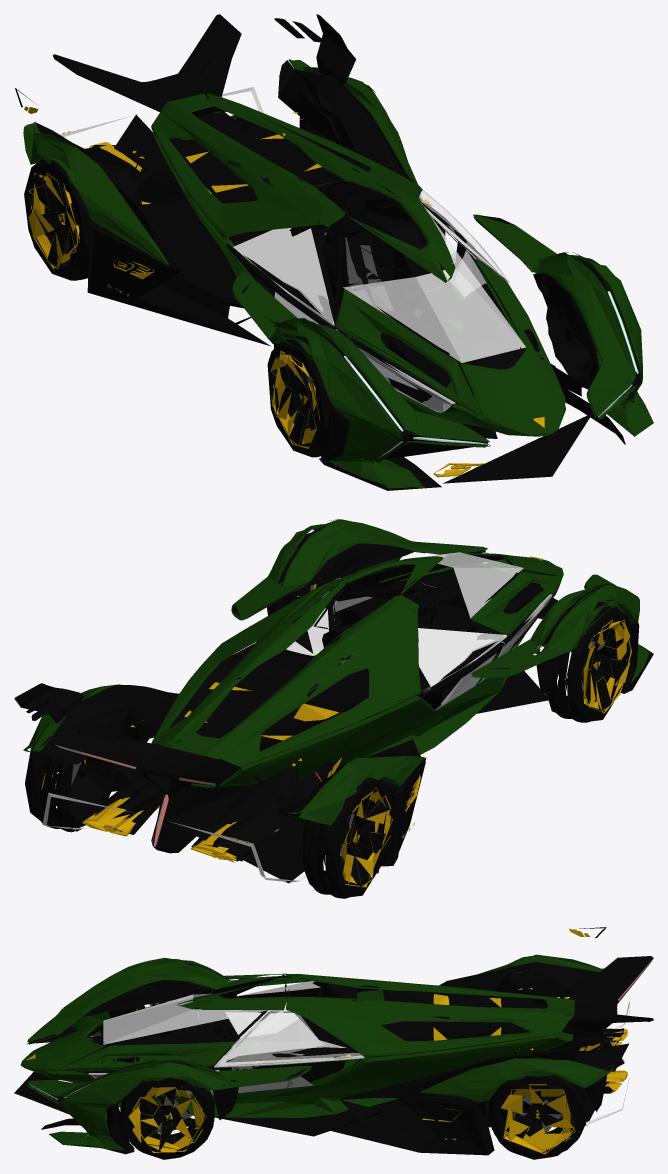
Rendered from lambo-v12-far.glb.
The picture shows the model from 3 angles, top to bottom: view 1: azimuth 30°, elevation 25°; view 2: azimuth 150°, elevation 25°; view 3: azimuth 270°, elevation 25°; orthographic projection. The views are drawn at different scales.
Parts seen in each view (by area): view 1: Object_13, Object_12, Object_27, Object_31, Object_34, Object_25, Object_19, Object_28, Object_32, Object_23, Object_22, Object_29 (+12 smaller); view 2: Object_12, Object_13, Object_27, Object_19, Object_25, Object_31, Object_23, Object_21, Object_32, Object_42, Object_43, Object_34 (+11 smaller); view 3: Object_12, Object_13, Object_27, Object_31, Object_25, Object_32, Object_19, Object_23, Object_33, Object_34, Object_41, Object_37 (+12 smaller).
Boxes of the visible parts, x1,y1,x2,y2 form: Object_13: [23, 59, 653, 488]; Object_12: [151, 93, 565, 436]; Object_27: [34, 60, 640, 459]; Object_31: [252, 181, 525, 406]; Object_34: [336, 216, 525, 412]; Object_25: [15, 14, 356, 133]; Object_19: [92, 114, 576, 438]; Object_28: [319, 335, 635, 490]; Object_32: [230, 191, 508, 329]; Object_23: [169, 106, 492, 430]; Object_22: [273, 301, 593, 447]; Object_29: [15, 14, 342, 329]; Object_12: [151, 552, 563, 787]; Object_13: [23, 519, 649, 825]; Object_27: [31, 526, 614, 866]; Object_19: [68, 573, 571, 883]; Object_25: [15, 683, 330, 853]; Object_31: [293, 554, 540, 712]; Object_23: [169, 587, 525, 751]; Object_21: [44, 757, 390, 888]; Object_32: [234, 577, 506, 709]; Object_42: [302, 771, 395, 898]; Object_43: [547, 601, 634, 722]; Object_34: [333, 552, 552, 683]; Object_12: [20, 974, 574, 1118]; Object_13: [27, 954, 613, 1150]; Object_27: [28, 962, 613, 1155]; Object_31: [86, 977, 356, 1082]; Object_25: [520, 927, 653, 1067]; Object_32: [214, 981, 363, 1092]; Object_19: [133, 992, 629, 1136]; Object_23: [73, 989, 547, 1083]; Object_33: [29, 1010, 364, 1100]; Object_34: [88, 993, 267, 1094]; Object_41: [488, 1075, 586, 1159]; Object_37: [501, 997, 575, 1154].
Size of what is drawn, in the model's own units: 1.84 by 0.8702 by 4.2.
